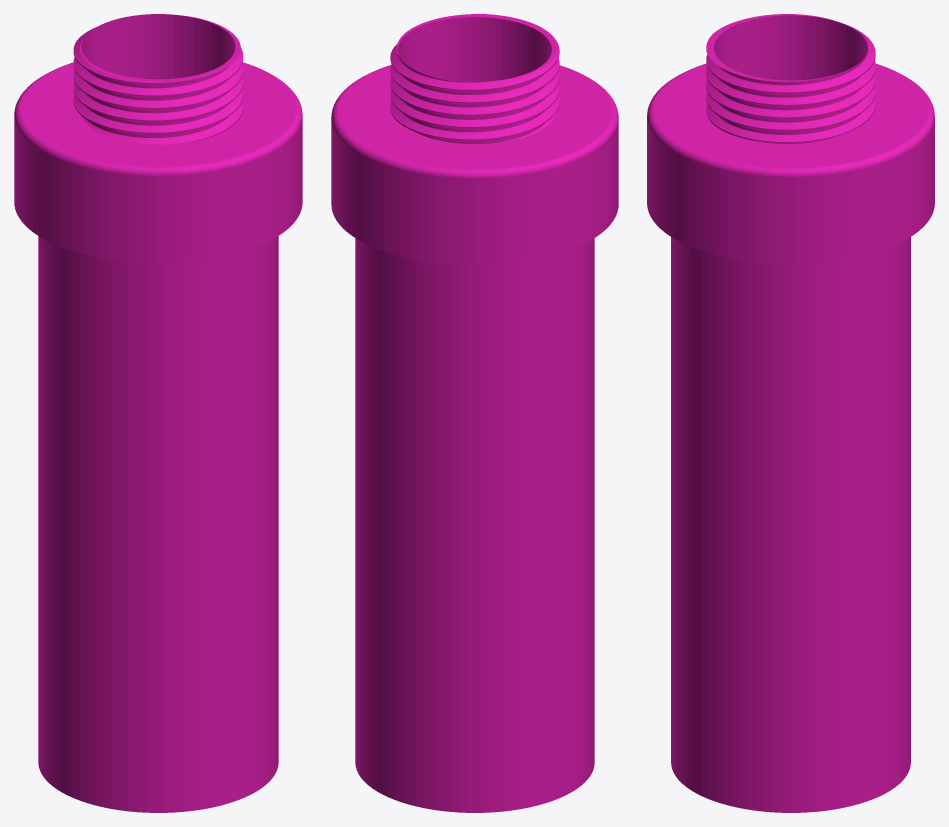
The model's file is corps_produit_01.glb.
The picture shows the model from 3 angles, left to right: view 1: azimuth 30°, elevation 25°; view 2: azimuth 150°, elevation 25°; view 3: azimuth 270°, elevation 25°; orthographic projection.
Visible parts, largest first — view 1: bouteille prototype V3 corps seul; view 2: bouteille prototype V3 corps seul; view 3: bouteille prototype V3 corps seul.
Boxes of the visible parts, left/top/right/bottom form: bouteille prototype V3 corps seul: left=14, top=14, right=302, bottom=812; bouteille prototype V3 corps seul: left=331, top=14, right=618, bottom=812; bouteille prototype V3 corps seul: left=647, top=14, right=934, bottom=812.
Size of the model in its own units: 83.47 by 229 by 83.48.
